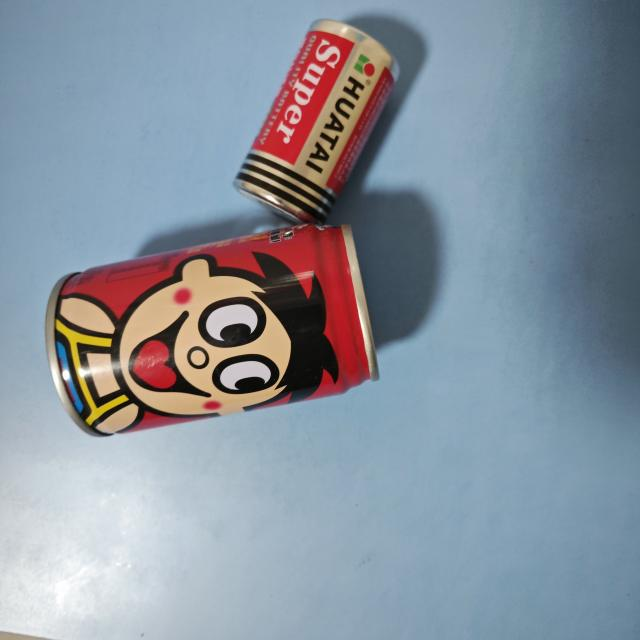-Hazardous waste - battery-: (240, 6, 392, 219)
-Recyclables - can-: (48, 227, 381, 451)
